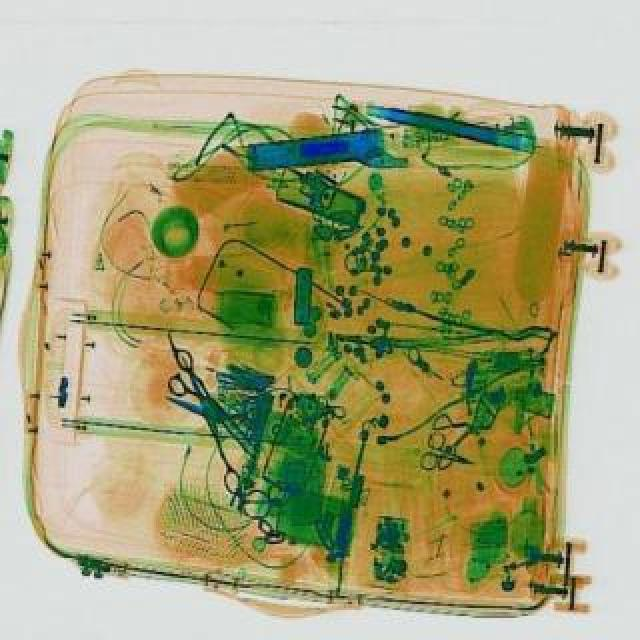pliers: (148, 342, 270, 464), (416, 426, 480, 478)
